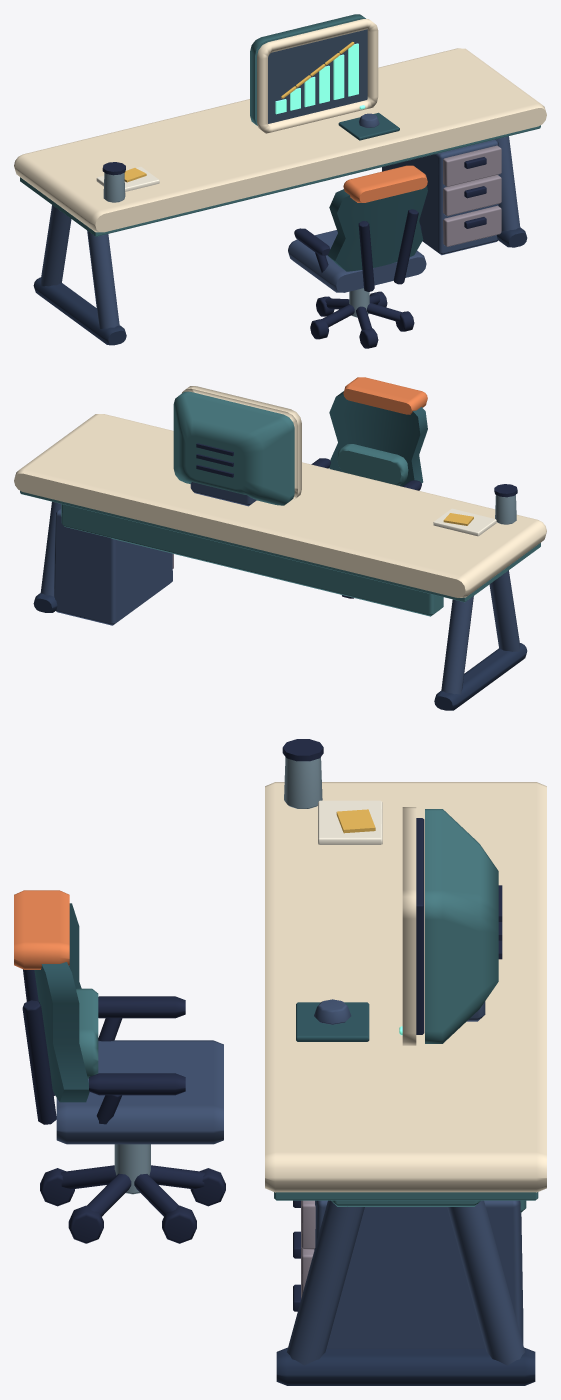
File: executive.glb
3 views of the same model, one above another, from view 1: azimuth 30°, elevation 25°; view 2: azimuth 150°, elevation 25°; view 3: azimuth 270°, elevation 25° (orthographic). The views are drawn at different scales.
Visible parts, largest first — view 1: executive; view 2: executive; view 3: executive.
Boxes of the visible parts, bbox=[...] form: executive: bbox=[14, 14, 546, 348]; executive: bbox=[14, 377, 546, 710]; executive: bbox=[14, 739, 546, 1385].
Size of the model in its own units: 3.1 by 1.49 by 1.82.
